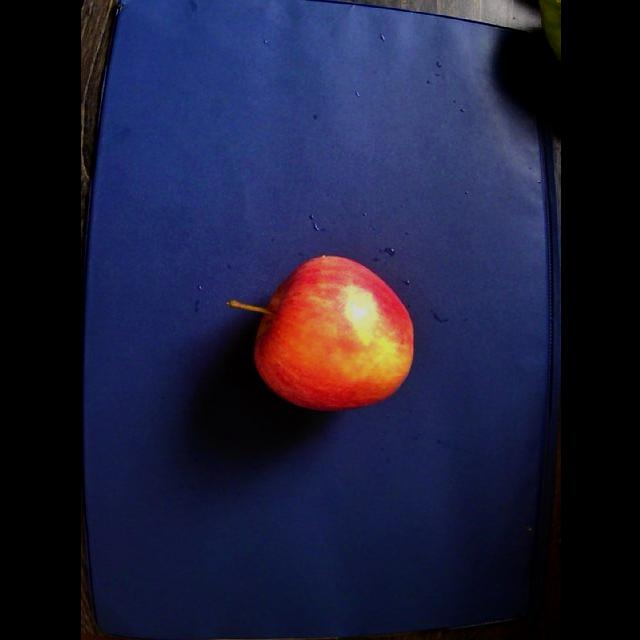manzana: (228, 256, 413, 410)
